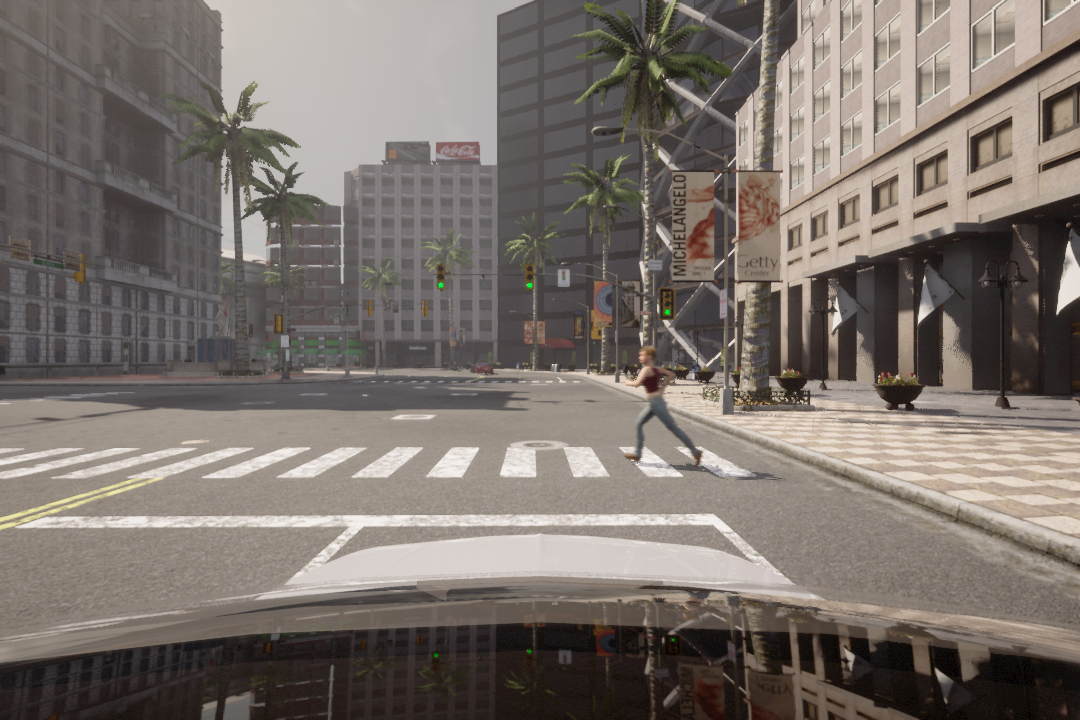TrafficLight: (659, 287, 677, 320), (436, 264, 447, 292), (524, 263, 534, 291)
walkside: (1, 441, 796, 491)
